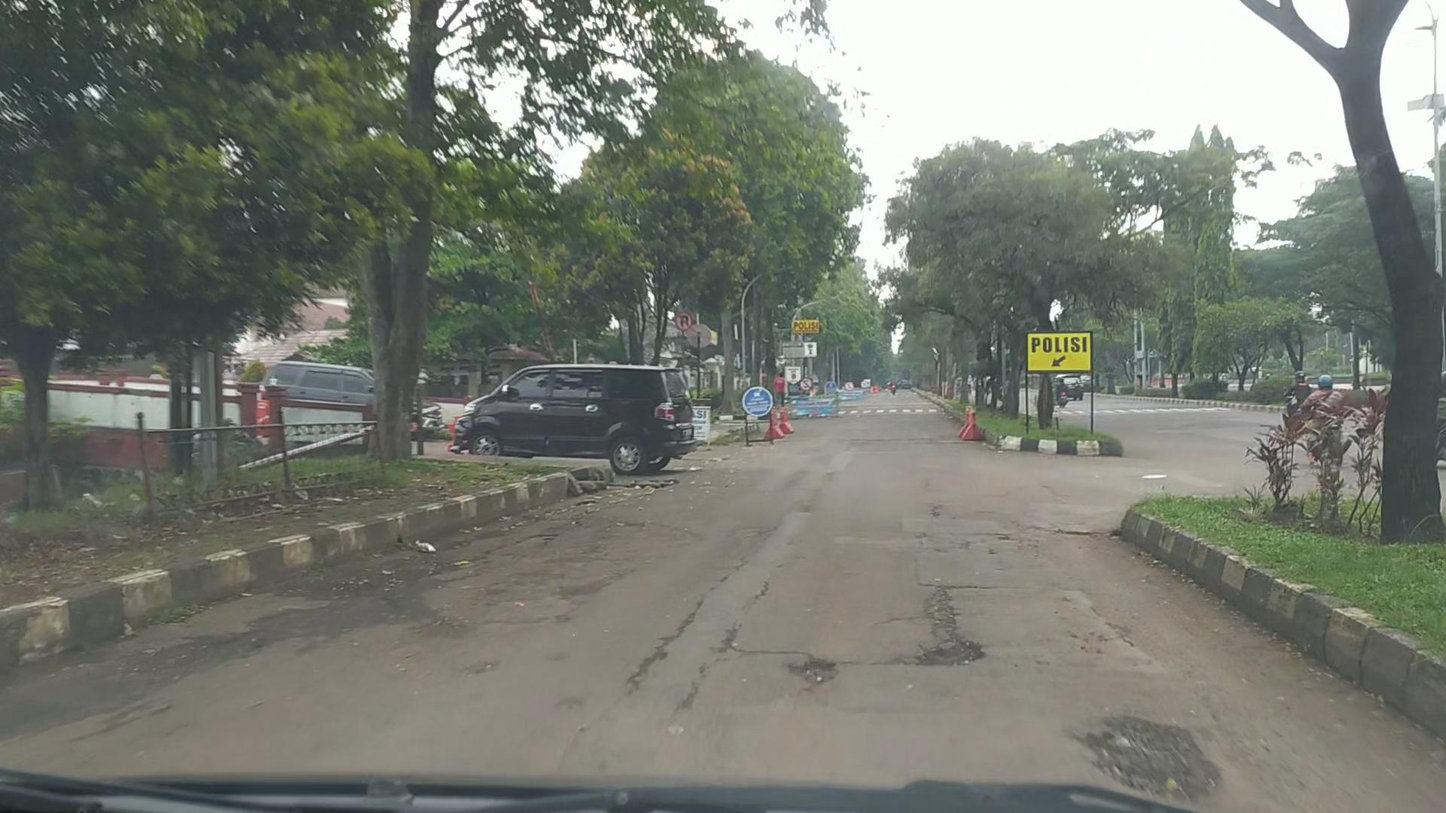pothole: (1085, 715, 1224, 807), (898, 581, 988, 668), (786, 657, 841, 688)
